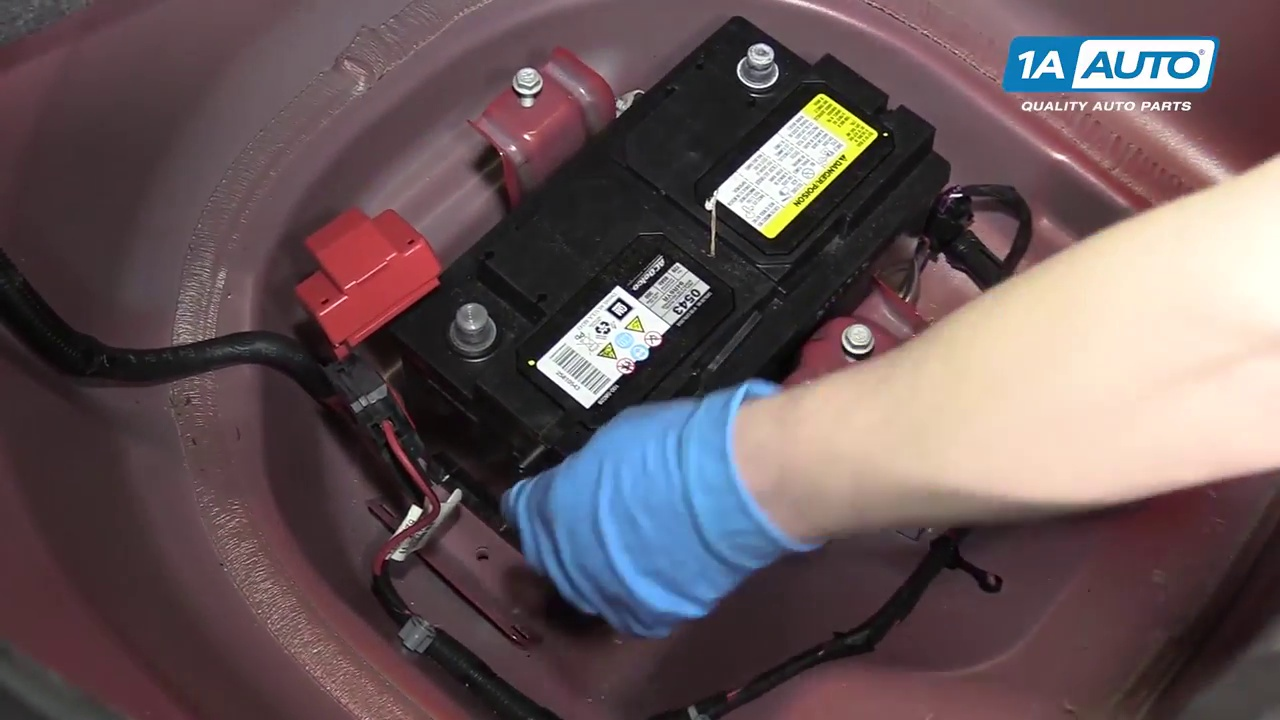battery: (387, 12, 939, 495)
neg_disconnected: (711, 24, 804, 108)
pos_disconnected: (291, 210, 505, 380)
